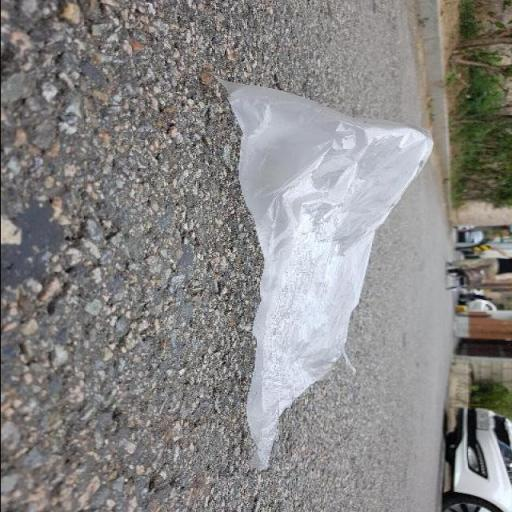plastic-bag: (207, 78, 438, 472)
